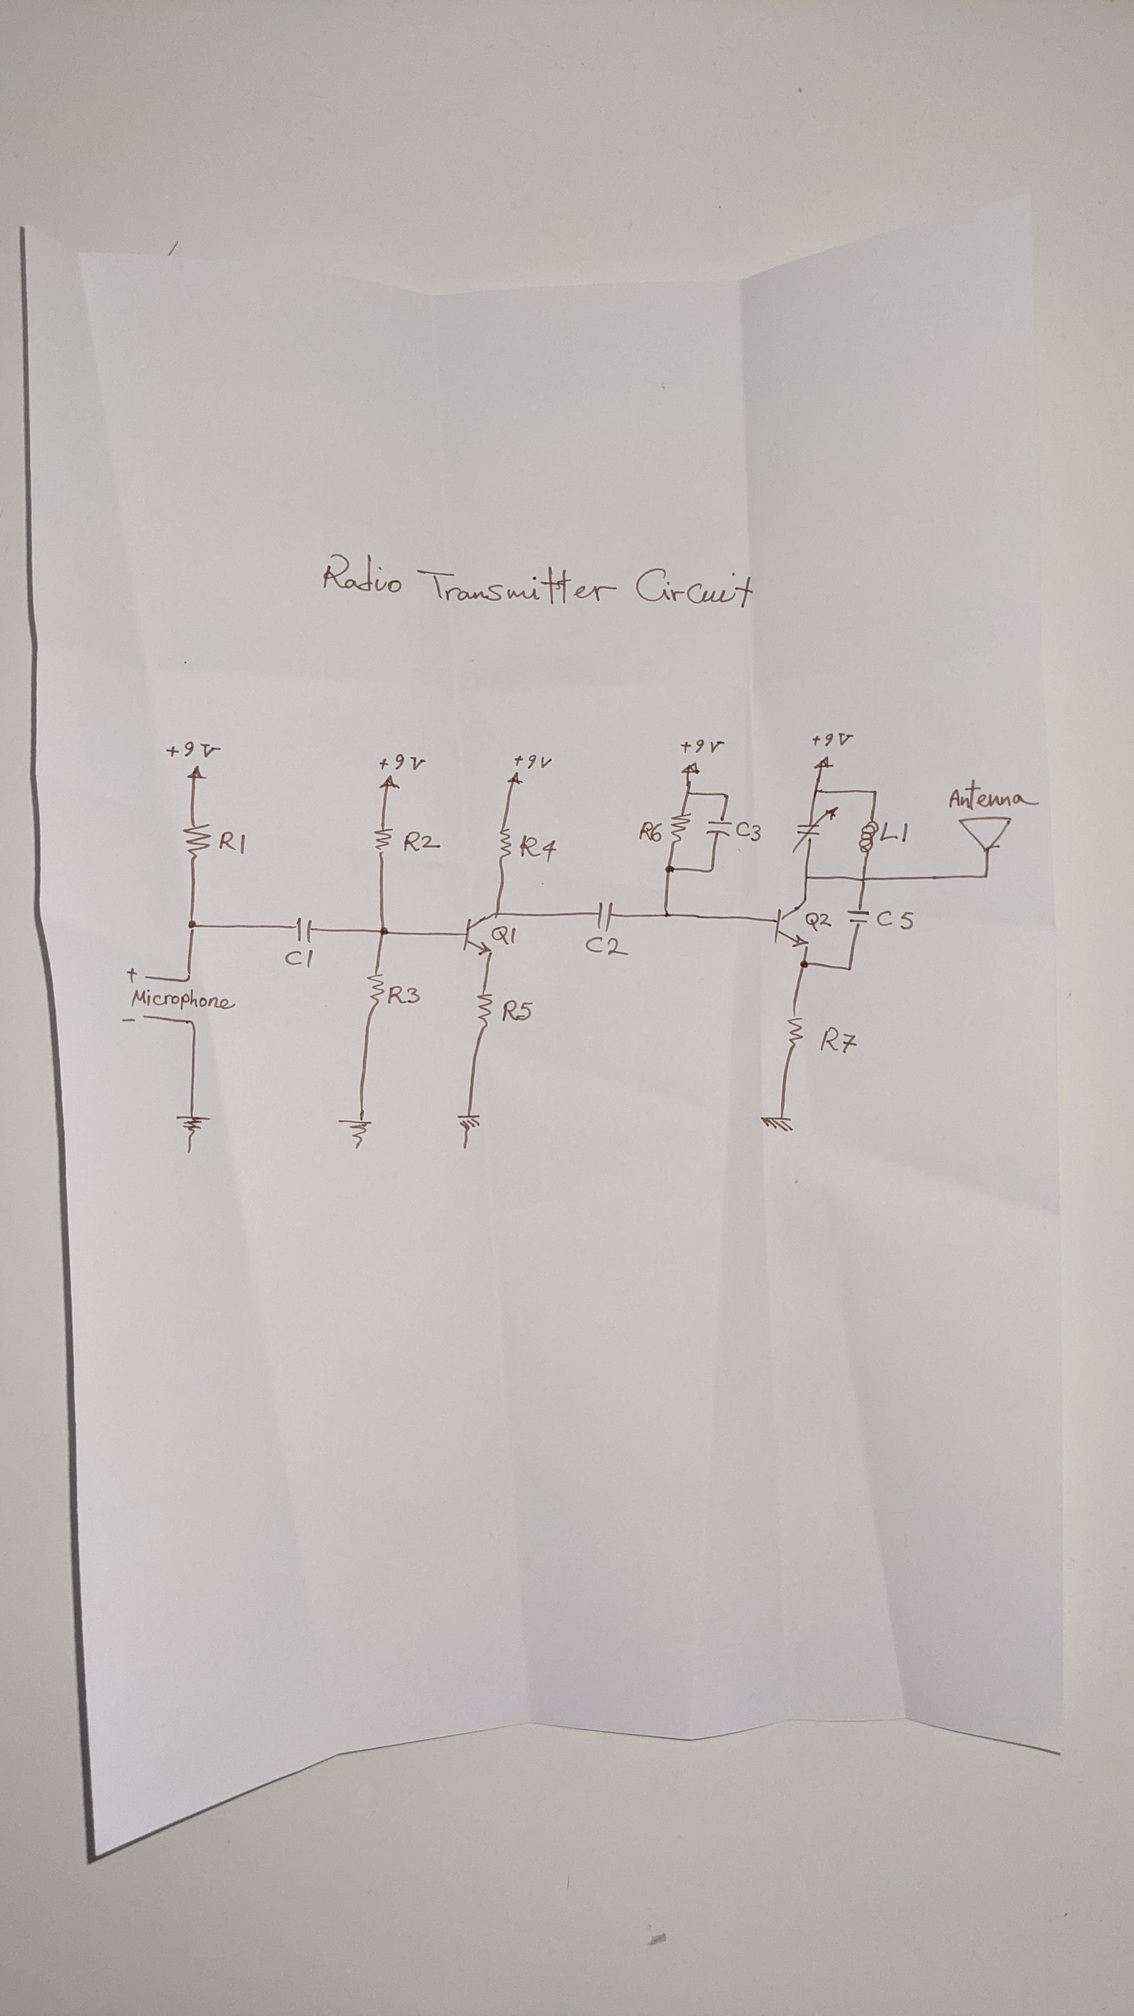antenna: (957, 814, 1014, 854)
capacitor.unpolarized: (791, 804, 840, 853), (594, 899, 616, 935), (292, 917, 318, 944), (703, 817, 734, 840), (845, 906, 872, 928)
gnd: (174, 1113, 213, 1155), (336, 1116, 375, 1151), (456, 1112, 483, 1151), (757, 1113, 798, 1134)
inductor: (857, 816, 881, 856)
junction: (186, 918, 199, 933), (377, 925, 390, 937), (663, 863, 677, 875), (798, 960, 811, 971), (660, 907, 672, 919), (980, 870, 991, 882), (858, 874, 870, 885), (183, 973, 194, 984), (845, 964, 856, 973), (706, 865, 717, 875), (721, 791, 732, 800), (811, 786, 821, 796), (870, 788, 881, 796), (802, 872, 810, 882), (188, 1018, 197, 1027), (683, 789, 692, 798)
resistor: (181, 820, 213, 865), (474, 987, 494, 1034), (667, 811, 692, 846), (366, 969, 386, 1011), (784, 1012, 806, 1048), (372, 827, 395, 858), (497, 827, 514, 863)
terminal: (141, 1011, 148, 1022), (143, 973, 151, 982)
text: (320, 551, 757, 611), (946, 778, 1043, 811), (129, 986, 240, 1012), (163, 738, 222, 762), (817, 1025, 858, 1055), (518, 834, 559, 864), (584, 935, 631, 960), (378, 752, 428, 773), (402, 829, 443, 854), (875, 908, 917, 930), (500, 998, 534, 1025), (678, 737, 724, 756), (217, 829, 249, 856), (810, 730, 856, 748), (386, 984, 422, 1007), (878, 821, 911, 845), (282, 947, 316, 971), (734, 820, 763, 843), (512, 752, 552, 768), (637, 820, 665, 843), (490, 924, 518, 947), (804, 911, 834, 933), (125, 965, 141, 984), (119, 1015, 138, 1026)
transistor: (773, 894, 813, 950), (461, 910, 501, 958)
vss: (186, 764, 210, 781), (378, 774, 402, 791), (811, 755, 836, 770), (680, 760, 701, 775), (504, 771, 523, 786)
